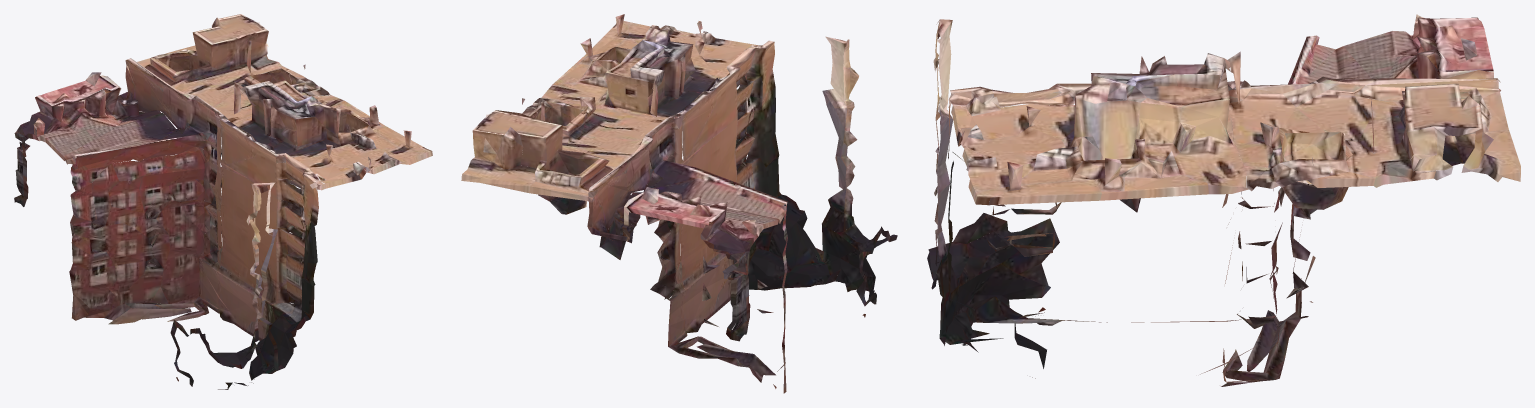
The picture shows the model from 3 angles, left to right: view 1: azimuth 30°, elevation 25°; view 2: azimuth 150°, elevation 25°; view 3: azimuth 270°, elevation 25°; orthographic projection. The views are drawn at different scales.
Visible parts, largest first — view 1: Mesh_0; view 2: Mesh_0; view 3: Mesh_0.
Part boxes in pixels (box(x1,y1,x2,y2)): Mesh_0: box(14, 14, 432, 389); Mesh_0: box(461, 14, 897, 393); Mesh_0: box(927, 14, 1520, 386).
Bounding box in the file's own units: 33.29 × 27.48 × 41.31.
2 materials, 2 textured.
